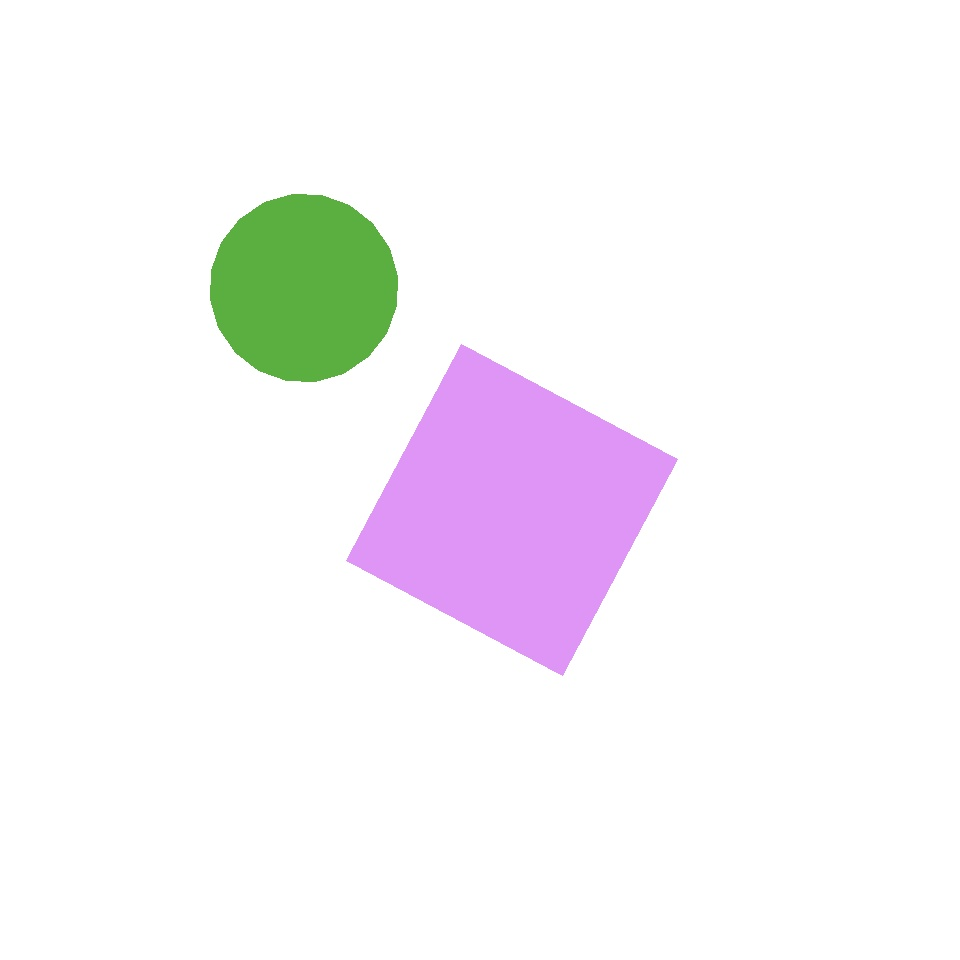circle: (136, 371, 286, 533)
square: (346, 344, 678, 676), (334, 702, 570, 940)
triangle: (210, 194, 398, 382), (220, 179, 388, 348)
